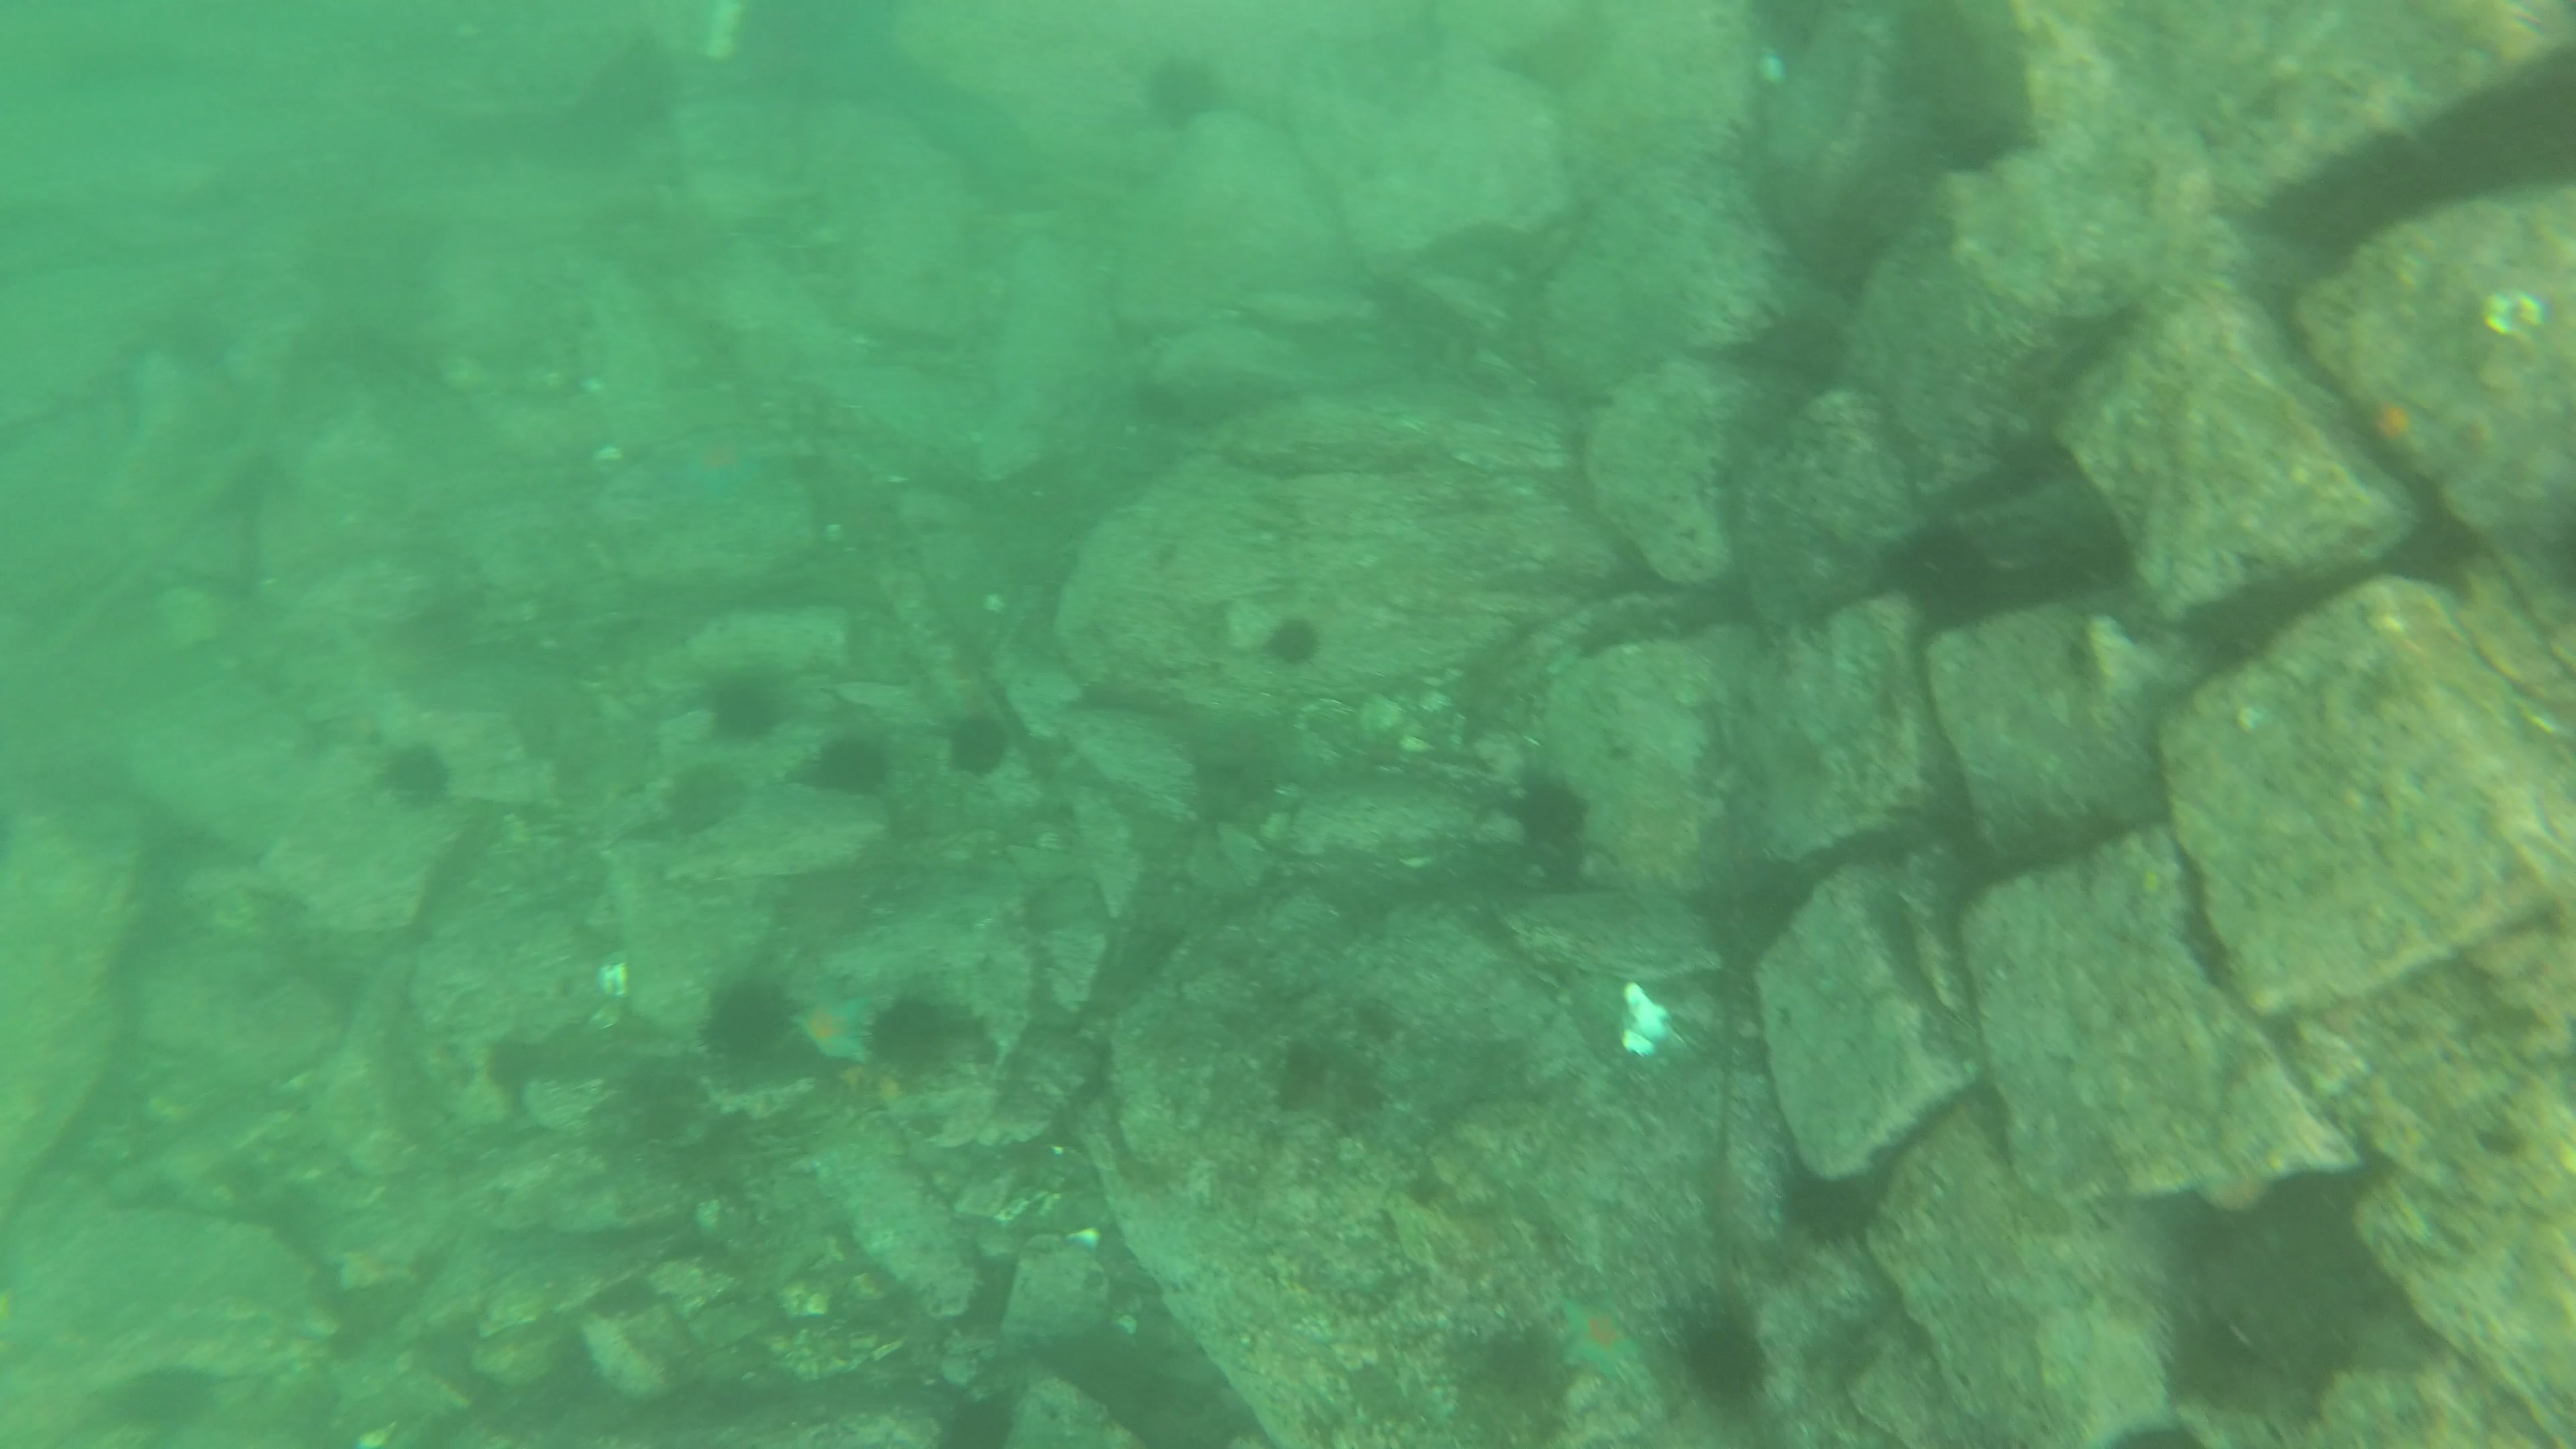echinus: (690, 973, 809, 1058), (656, 747, 754, 837), (1506, 775, 1608, 858), (932, 708, 1028, 791), (373, 732, 464, 816), (1139, 50, 1219, 134), (1256, 603, 1336, 686), (869, 994, 952, 1072), (708, 679, 800, 748), (817, 736, 892, 805)
scallop: (1610, 978, 1684, 1067)
starfish: (1553, 1292, 1647, 1396), (662, 439, 777, 506), (793, 984, 881, 1069)
